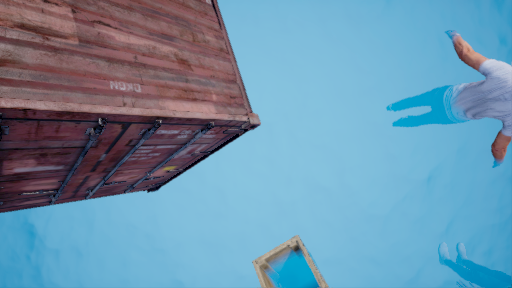person: (394, 28, 512, 159)
